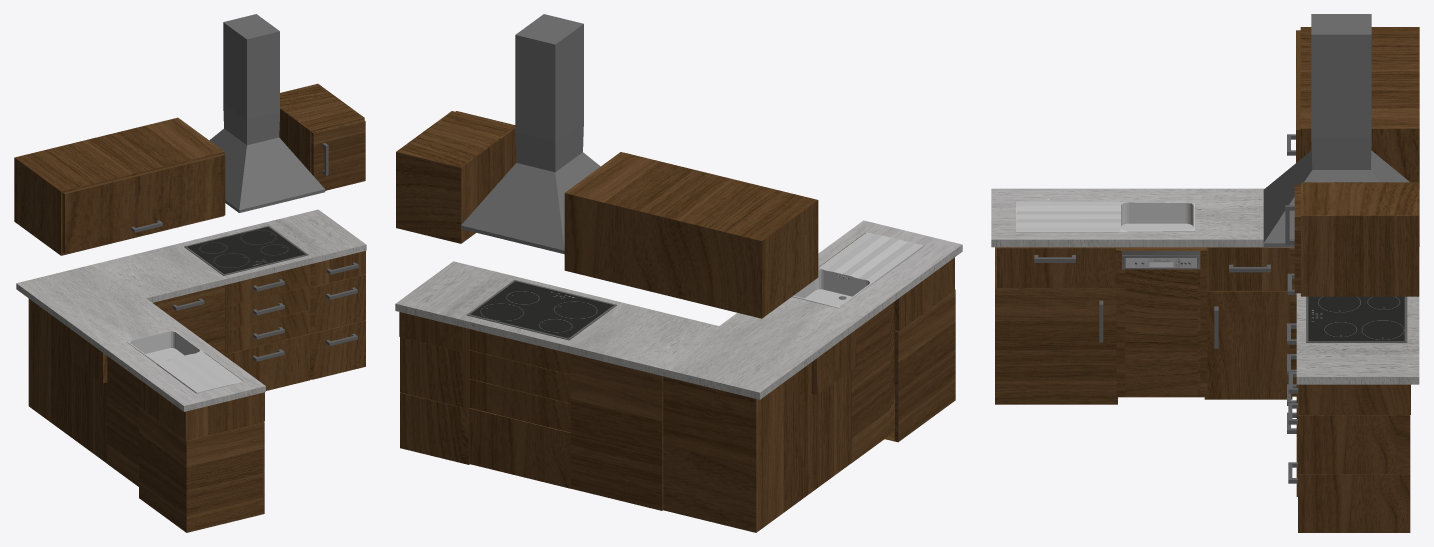
File: corner-kitchen-unit.glb
3 views of the same model, side by side, from view 1: azimuth 30°, elevation 25°; view 2: azimuth 150°, elevation 25°; view 3: azimuth 270°, elevation 25° (orthographic). The views are drawn at different scales.
Parts seen in each view (by area): view 1: Obj_Kueche; view 2: Obj_Kueche; view 3: Obj_Kueche.
Part boxes in pixels (<box>): Obj_Kueche: <box>14,14,366,532</box>; Obj_Kueche: <box>395,14,962,532</box>; Obj_Kueche: <box>991,14,1419,532</box>.
Bounding box in the file's own units: 2.14 × 2.41 × 2.05.
7 materials, 4 textured.
